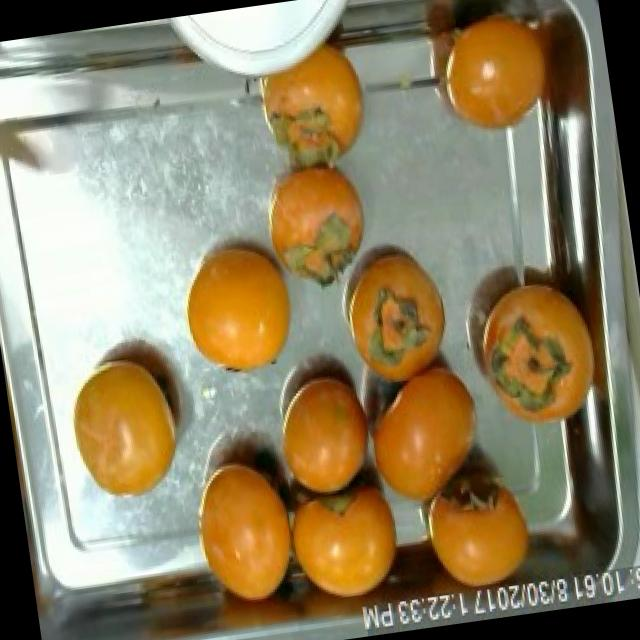Fruit: (417, 0, 617, 160), (448, 258, 608, 454), (360, 342, 506, 526), (166, 216, 312, 394), (55, 338, 202, 514), (236, 22, 390, 188), (175, 436, 306, 627), (402, 443, 556, 604), (328, 222, 469, 394), (280, 455, 414, 621), (264, 334, 382, 518), (250, 143, 388, 300)
